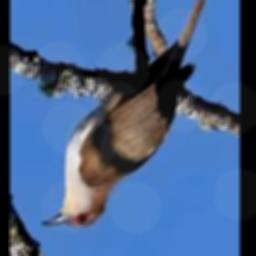Cuckoo: (41, 0, 219, 227)
